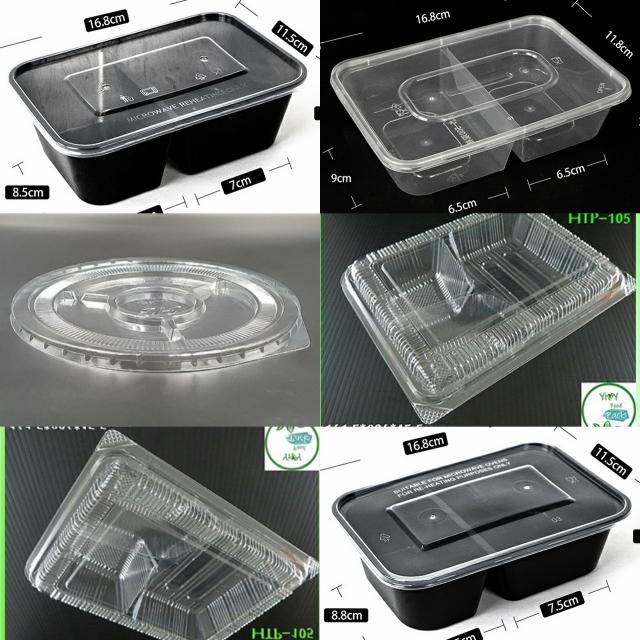Single-Use-Plastic: (342, 214, 635, 424), (25, 430, 318, 640), (9, 12, 306, 205), (333, 444, 630, 629), (330, 16, 630, 194), (10, 258, 309, 372)
